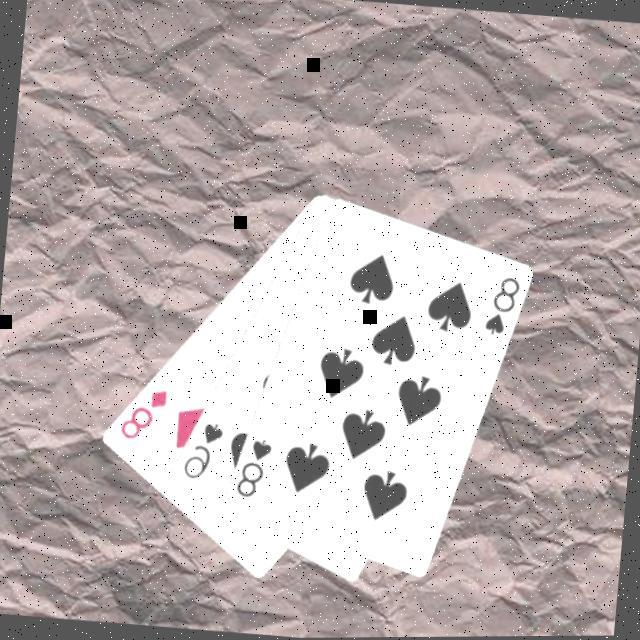8D: (113, 381, 170, 444)
8S: (230, 431, 274, 500), (479, 269, 523, 338)
9S: (177, 414, 226, 482)
